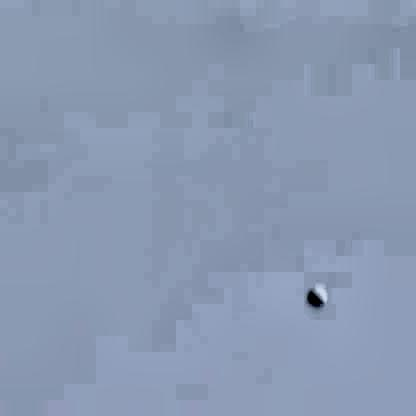golfball: (303, 282, 325, 306)
